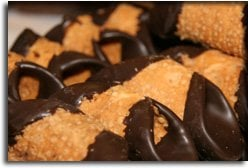sushi: (10, 43, 248, 161)
